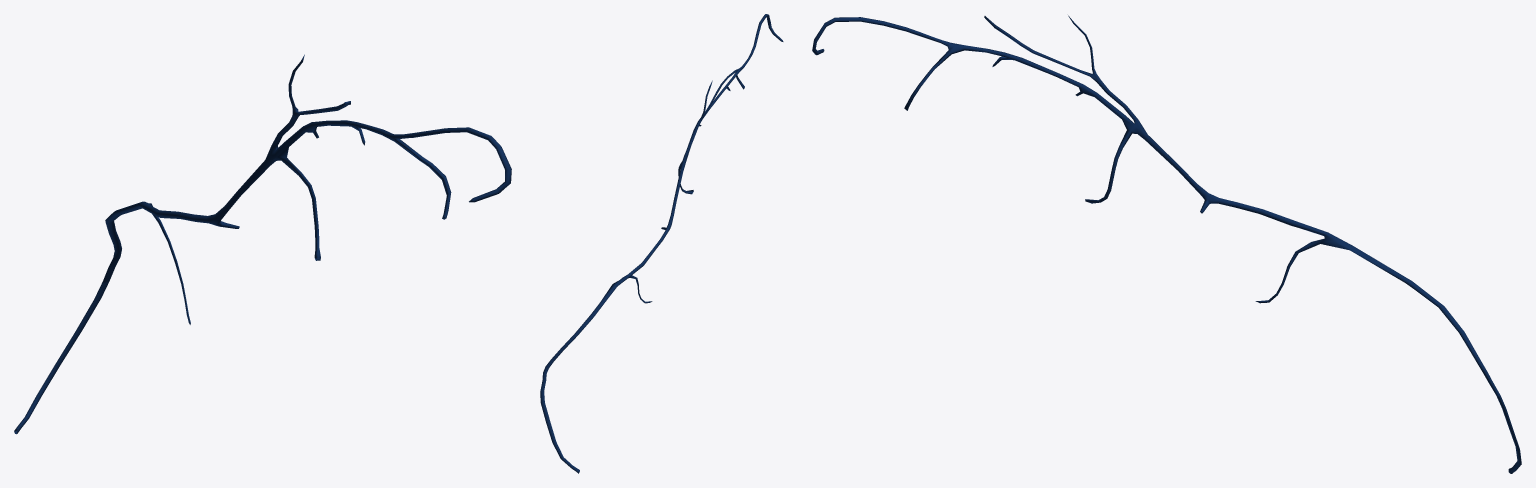
File: L vena cervicalis profunda.fbx
The picture shows the model from 3 angles, left to right: view 1: azimuth 30°, elevation 25°; view 2: azimuth 150°, elevation 25°; view 3: azimuth 270°, elevation 25°; orthographic projection. The views are drawn at different scales.
Visible parts, largest first — view 1: L vena cervicalis profunda, L vena cervicalis profunda low; view 2: L vena cervicalis profunda; view 3: L vena cervicalis profunda.
Part boxes in pixels (x1,y1,x2,y2): L vena cervicalis profunda: (14, 54, 511, 434); L vena cervicalis profunda low: (14, 62, 507, 433); L vena cervicalis profunda: (540, 14, 783, 473); L vena cervicalis profunda: (812, 15, 1521, 473).
Size of the model in its own units: 4.05 by 25.63 by 34.65.
